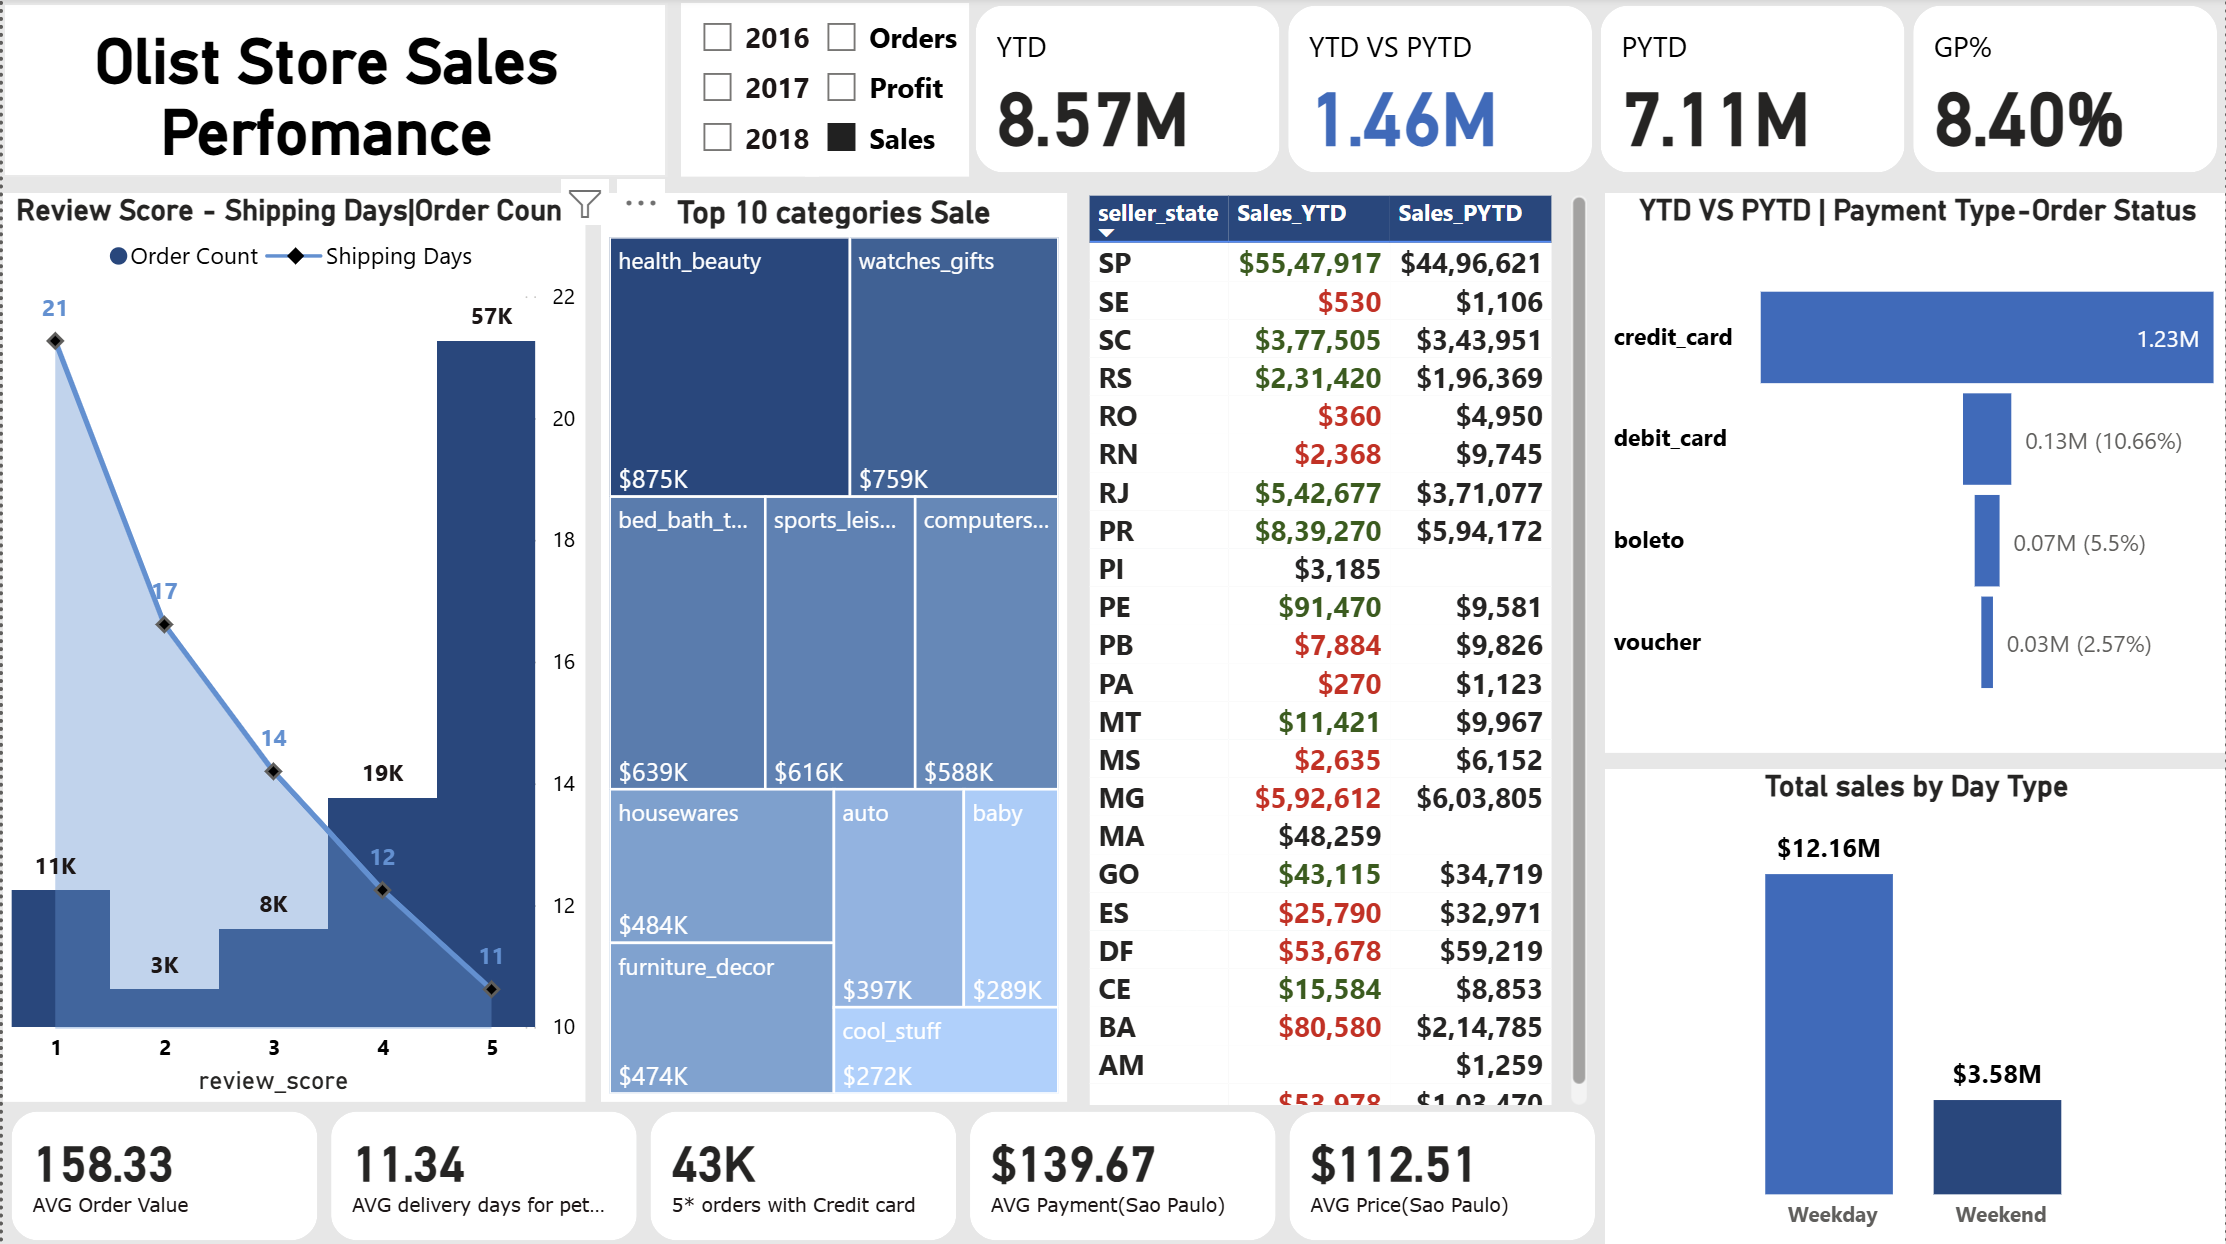

The page's visual inventory and layout, read from the dashboard file:
{"tool":"powerbi","page":{"name":"Page 1","canvas":[1280,720],"ordinal":0},"visuals":[{"type":"cardVisual","fields":{"Data":["_Measures.Avg_order_value","_Measures.Avg_Delivery_Days_PetShop","_Measures.Orders_5Star_CreditCard_v2","_Measures.Avg_Payment(Sao Paulo)","_Measures.Avg_Price(Sao Paulo)"]},"box":[0,636.8,922.4,84.2],"z":0},{"type":"slicer","fields":{"Values":["SLC_Values.Values"]},"box":[461.8,3.9,94.7,100],"z":1000},{"type":"cardVisual","fields":{"Data":["_Measures.Switch_YTD","_Measures.YTD VS PYTD","_Measures.Switch_PYTD","_Measures.GP%"]},"box":[555.3,0,727.6,106.6],"z":2000},{"type":"tableEx","fields":{"Values":["olist_sellers_dataset.seller_state","_Measures.Sales_YTD","_Measures.Sales_PYTD"]},"box":[612.9,109.4,299.5,533.4],"z":3000},{"type":"lineStackedColumnComboChart","title":"Review Score - Shipping Days|Order Count","fields":{"Category":["olist_order_reviews_dataset.review_score"],"Y":["CountNonNull(olist_orders_dataset.order_id)"],"Y2":["Avg(olist_orders_dataset.Shipping_Days)"]},"box":[0,113.2,335.5,523.7],"z":4000},{"type":"funnel","title":"YTD VS PYTD  | Payment Type-Order Status","fields":{"Category":["olist_order_payments_dataset.payment_type","olist_orders_dataset.order_status"],"Y":["_Measures.YTD VS PYTD"]},"box":[922.4,113.2,360.5,322.4],"z":5000},{"type":"columnChart","title":"Total sales by Day Type","fields":{"Category":["olist_orders_dataset.Day Type"],"Y":["_Measures.Total_sales"]},"box":[922.4,444.7,359.2,275],"z":6000},{"type":"slicer","fields":{"Values":["DIM_Calendar.Date.Variation.Date Hierarchy.Year"]},"box":[390.5,3.5,79.5,100.2],"z":7000},{"type":"treemap","fields":{"Values":["_Measures.Sales_YTD"],"Group":["product_category_name_translation.product_category_name_english"]},"box":[344.7,113.2,268.4,523.7],"z":8000},{"type":"card","fields":{"Values":["_Measures.Report_title"]},"box":[0,3.5,382.5,100.2],"z":9000}]}

Visuals, with their boxes in screenshot pixels (x1, y1, x2, y2), scaled from the page's 1280x720 canvas onto the 2226x1244 screenshot:
cardVisual - _Measures.Avg_order_value x _Measures.Avg_Delivery_Days_PetShop: (0, 1100, 1604, 1243)
slicer - SLC_Values.Values: (803, 7, 968, 180)
cardVisual - _Measures.Switch_YTD x _Measures.YTD VS PYTD: (966, 0, 2225, 184)
tableEx - olist_sellers_dataset.seller_state x _Measures.Sales_YTD: (1066, 189, 1587, 1111)
"Review Score - Shipping Days|Order Count" lineStackedColumnComboChart: (0, 196, 583, 1100)
"YTD VS PYTD  | Payment Type-Order Status" funnel: (1604, 196, 2225, 753)
"Total sales by Day Type" columnChart: (1604, 768, 2225, 1243)
slicer - DIM_Calendar.Date.Variation.Date Hierarchy.Year: (679, 6, 817, 179)
treemap - _Measures.Sales_YTD x product_category_name_translation.product_category_name_english: (599, 196, 1066, 1100)
card - _Measures.Report_title: (0, 6, 665, 179)
